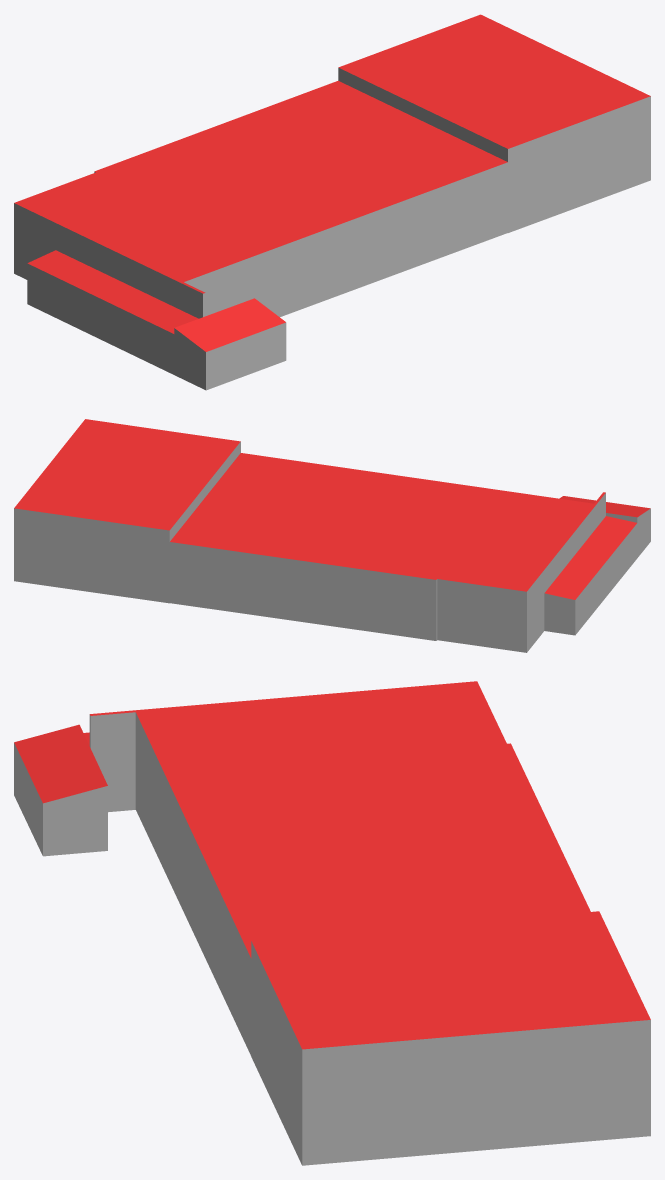
The model's file is DEBE3D01YYK0002Noq.dae.
The picture shows the model from 3 angles, top to bottom: view 1: azimuth 30°, elevation 25°; view 2: azimuth 150°, elevation 25°; view 3: azimuth 270°, elevation 25°; orthographic projection. The views are drawn at different scales.
Size of the model in its own units: 55.93 by 37.56 by 7.56.
